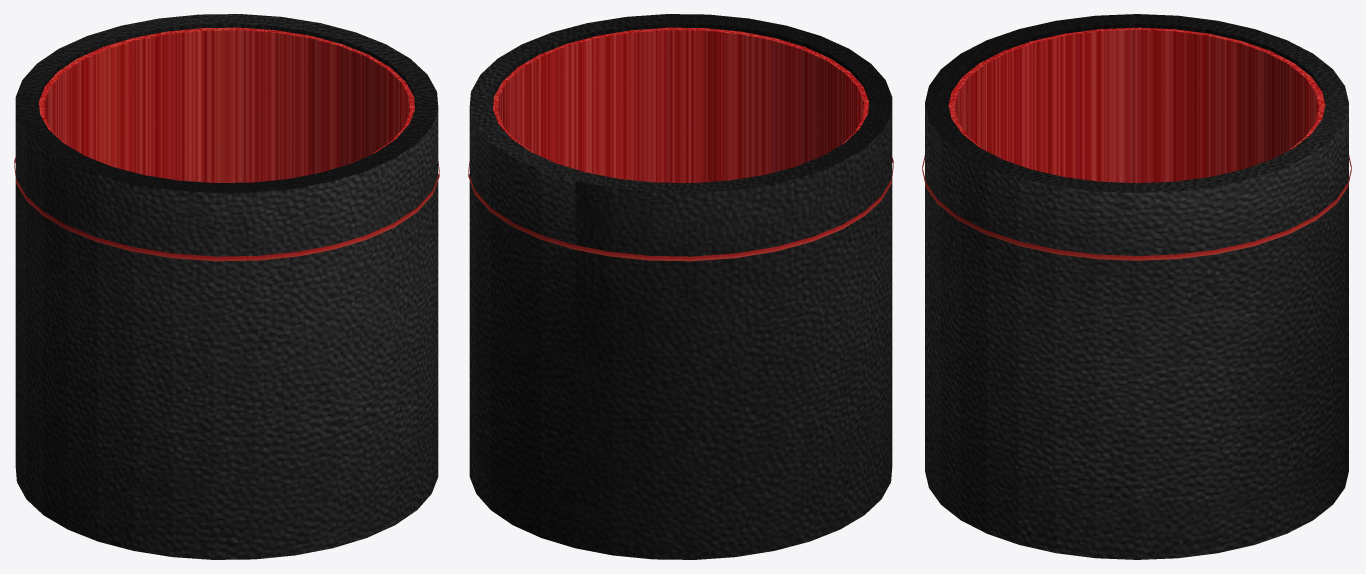
The model's file is Dice_Bottle_verson1.fbx.
3 views of the same model, side by side, from view 1: azimuth 30°, elevation 25°; view 2: azimuth 150°, elevation 25°; view 3: azimuth 270°, elevation 25° (orthographic).
Visible parts, largest first — view 1: Cylinder, Cylinder.002, Surface.001; view 2: Cylinder, Cylinder.002, Surface.001; view 3: Cylinder, Cylinder.002, Surface.001.
Boxes of the visible parts, x1,y1,x2,y2 form: Cylinder: (15,14,438,559); Cylinder.002: (39,27,414,182); Surface.001: (14,157,439,261); Cylinder: (469,14,892,559); Cylinder.002: (493,27,868,182); Surface.001: (468,157,893,261); Cylinder: (925,14,1348,559); Cylinder.002: (948,27,1325,183); Surface.001: (922,155,1351,260).
Size of the model in its own units: 329 by 314 by 333.
Materials: 4 (4 with a texture image).
